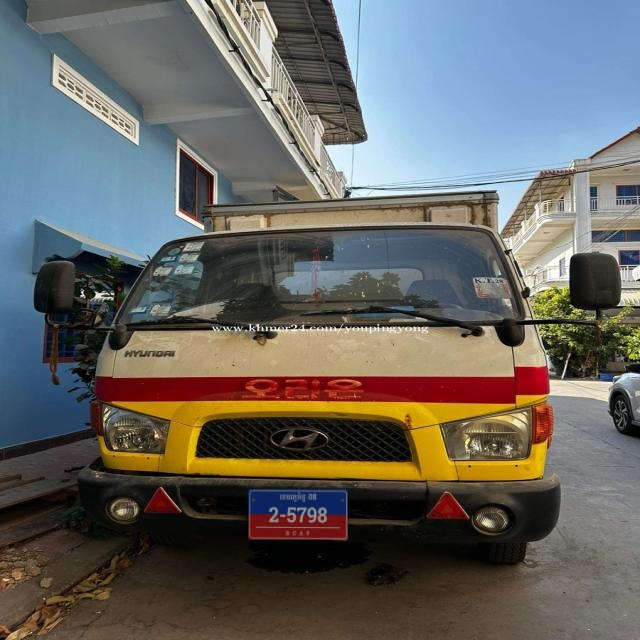Plate Number: (248, 490, 349, 540)
